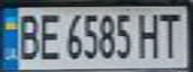5: (115, 10, 139, 60), (78, 10, 100, 61)
6: (60, 10, 84, 61)
8: (97, 10, 118, 61)
B: (12, 10, 42, 62)
E: (36, 9, 63, 62)
H: (136, 10, 163, 60)
T: (154, 9, 187, 60)
